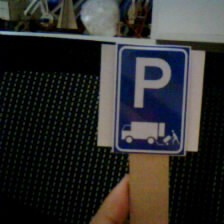load: (108, 38, 188, 159)
